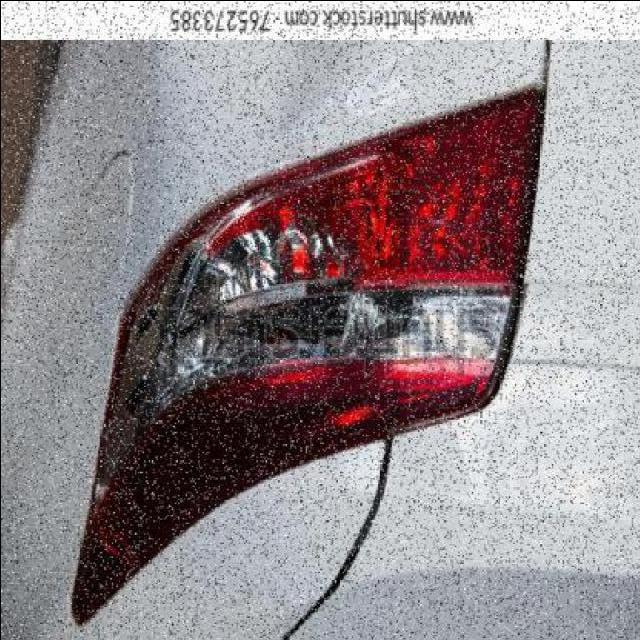Taillight-Damage: (53, 89, 577, 546)
